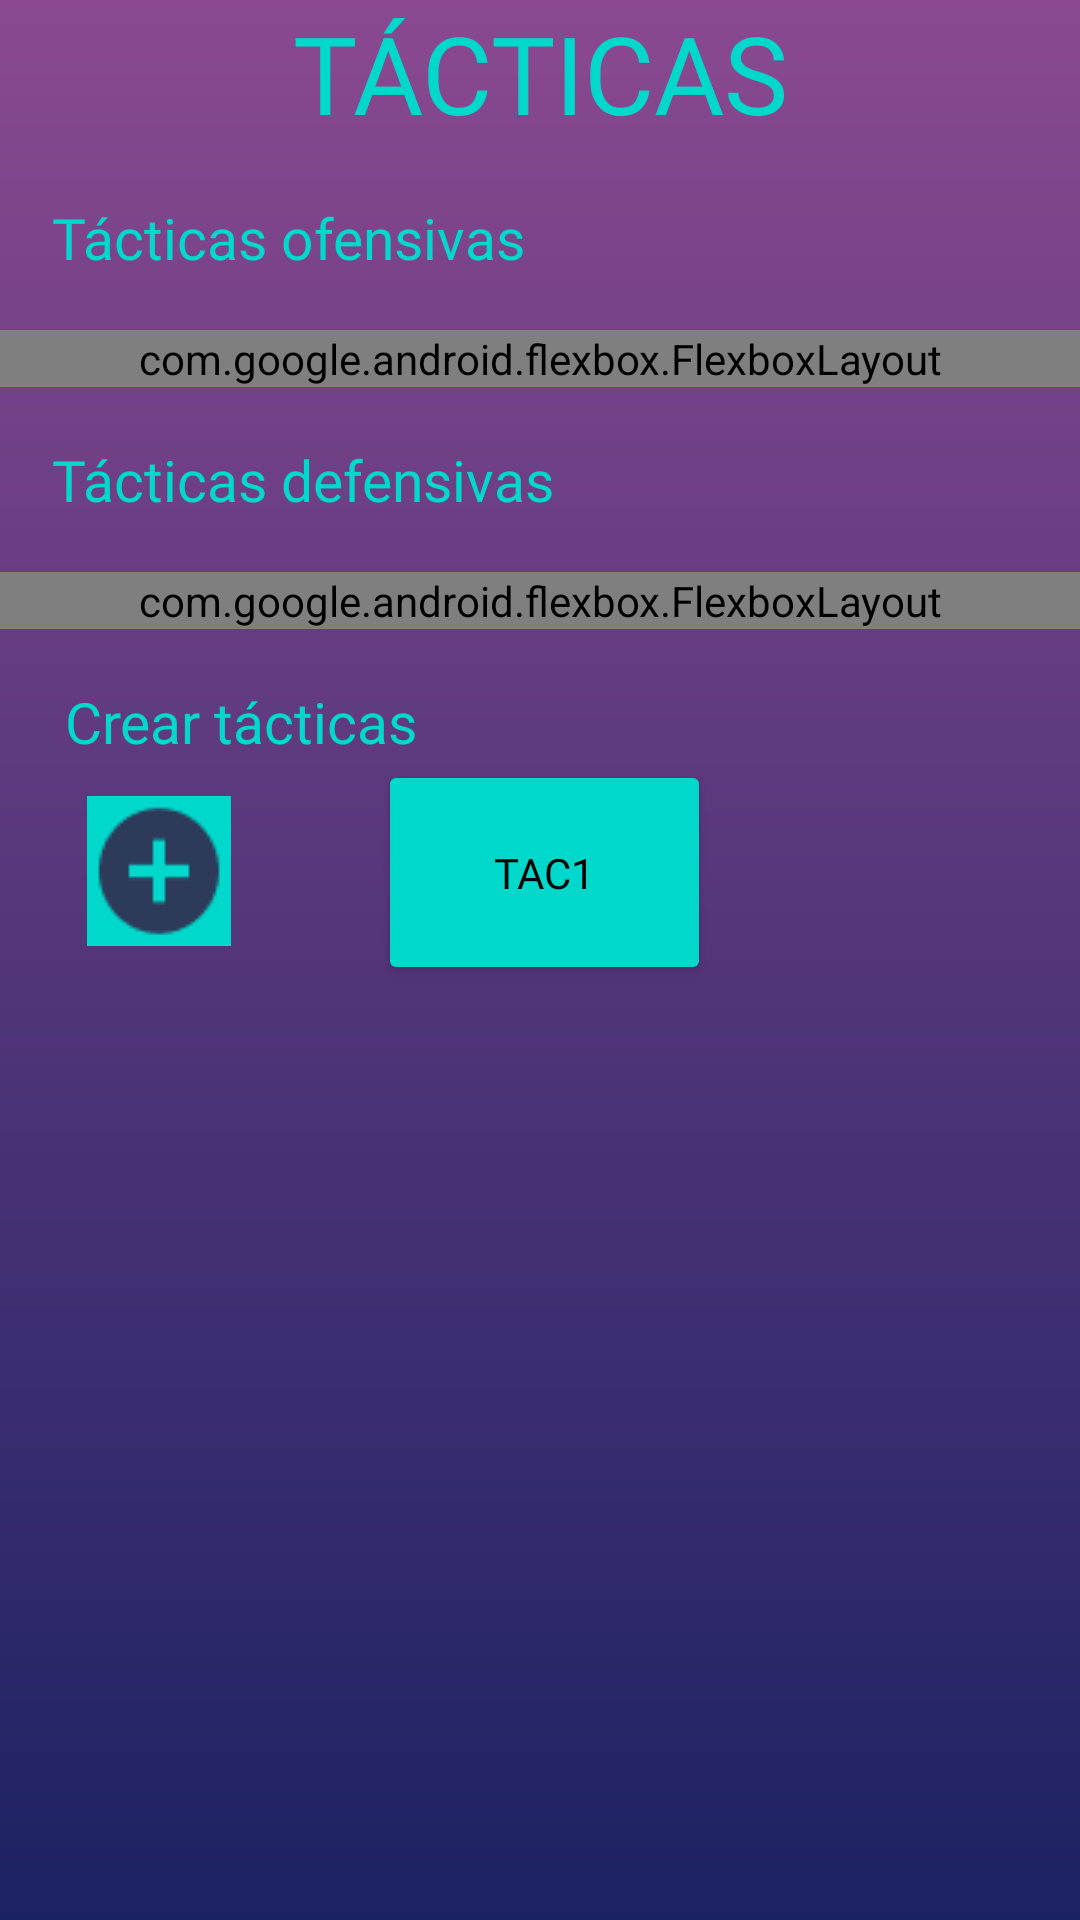

Locate icon controls on the screen. Image size 1080px x 1920px, boxes as (x1,y1,x2,y2).
plus circle: (87,796,231,946)
